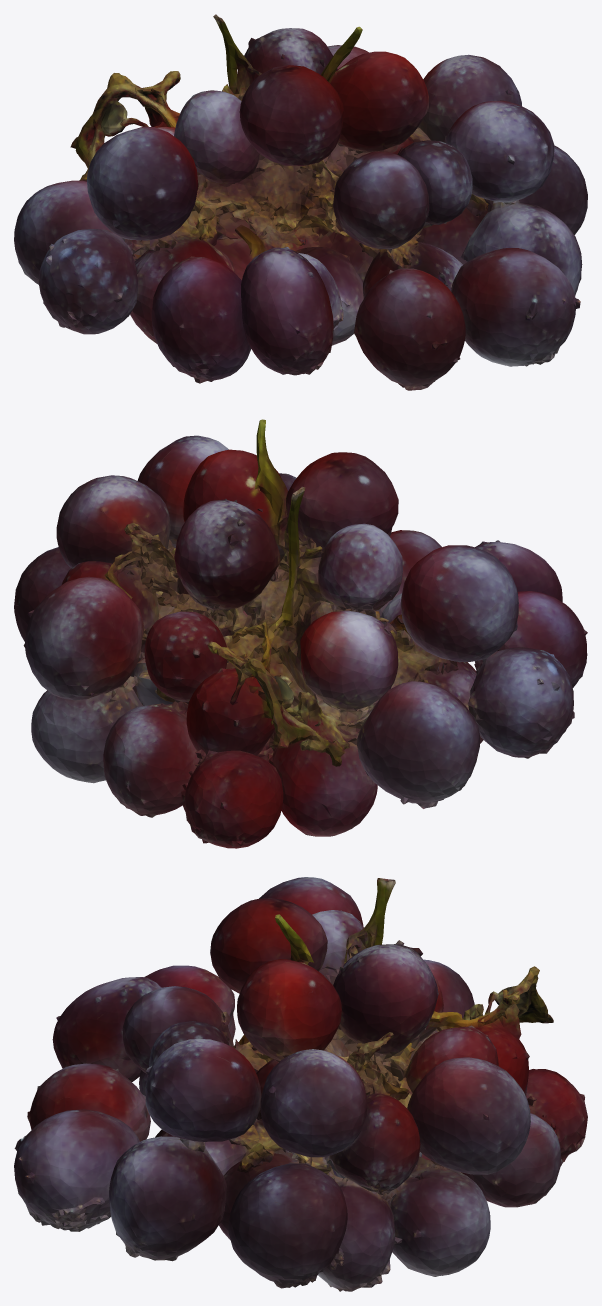
The picture shows the model from 3 angles, top to bottom: view 1: azimuth 30°, elevation 25°; view 2: azimuth 150°, elevation 25°; view 3: azimuth 270°, elevation 25°; orthographic projection. The views are drawn at different scales.
Parts seen in each view (by area): view 1: world; view 2: world; view 3: world.
Part boxes in pixels (box(x1,y1,x2,y2)): world: box(14, 14, 587, 390); world: box(14, 419, 587, 848); world: box(14, 877, 587, 1291).
Bounding box in the file's own units: 0.9997 × 0.5531 × 0.9237.
1 material, 1 textured.
